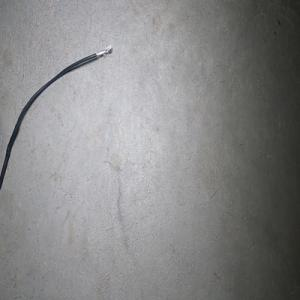Wire: (0, 44, 112, 191)
